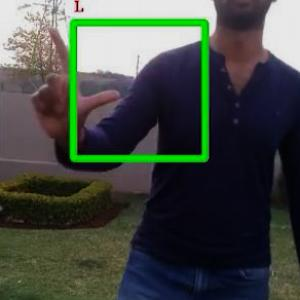land_hand: (25, 23, 123, 138)
